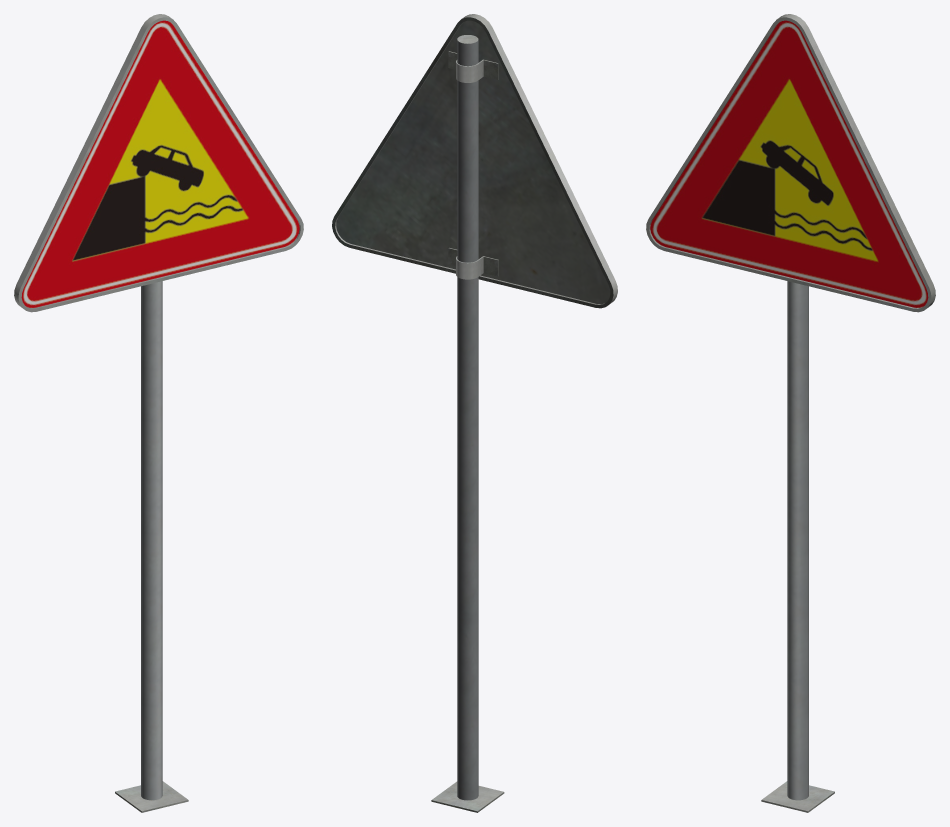
The picture shows the model from 3 angles, left to right: view 1: azimuth 30°, elevation 25°; view 2: azimuth 150°, elevation 25°; view 3: azimuth 330°, elevation 25°; orthographic projection.
Parts seen in each view (by area): view 1: MainBuilding; view 2: MainBuilding; view 3: MainBuilding.
Boxes of the visible parts, x1,y1,x2,y2 form: MainBuilding: [14, 14, 303, 812]; MainBuilding: [332, 14, 617, 812]; MainBuilding: [646, 14, 935, 812].
Bounding box in the file's own units: 0.9151 × 2.41 × 0.15.
1 material, 1 textured.
